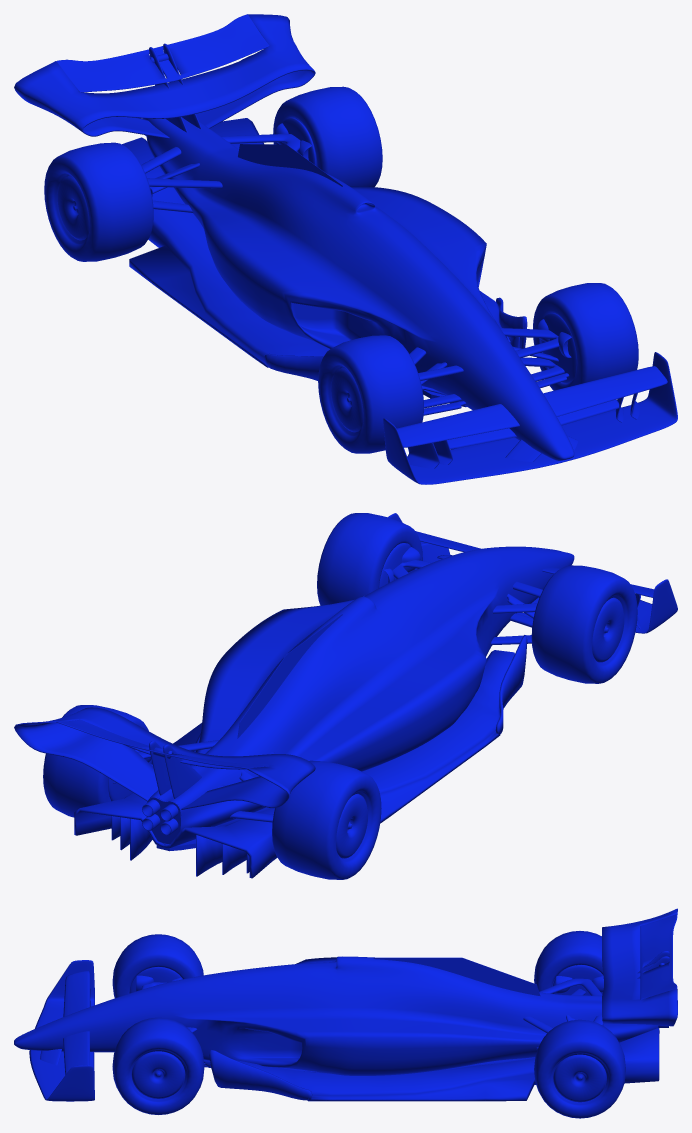
The model's file is Light Car Alpha Model.fbx.
3 renders of one model, top to bottom at view 1: azimuth 30°, elevation 25°; view 2: azimuth 150°, elevation 25°; view 3: azimuth 270°, elevation 25°, orthographic. The views are drawn at different scales.
Parts seen in each view (by area): view 1: Body, Wing, Groundforce Tunnel, Rear Wheel Right, Front Wheel Right, Lower wing, Rear Wheel Left, Front Wheel Left, DRS Wing, Uper Wing, Model.030, Barge Boards (+6 smaller); view 2: Body, Groundforce Tunnel, Wing, Front Wheel Right, Rear Wheel Right, Front Wheel Left, Rear Wheel Left, Defuser Planes, Body Top Fin, SuportStrut, Lower wing, DRS Wing (+4 smaller); view 3: Body, Groundforce Tunnel, Rear Wheel Left, Front Wheel Left, Wing, Lower wing, Front Wheel Right, Rear Wheel Right, DRS Wing, Barge Boards, Body Top Fin, Uper Wing (+3 smaller).
Boxes of the visible parts, x1,y1,x2,y2 form: Body: (146,117,574,460); Wing: (14,14,315,138); Groundforce Tunnel: (122,118,519,395); Rear Wheel Right: (44,142,153,261); Front Wheel Right: (318,335,423,453); Lower wing: (383,352,677,484); Rear Wheel Left: (273,86,382,186); Front Wheel Left: (533,283,638,390); DRS Wing: (56,14,269,92); Uper Wing: (397,366,667,447); Model.030: (141,134,300,188); Barge Boards: (264,297,527,380); Body: (146,546,574,844); Groundforce Tunnel: (74,650,514,878); Wing: (14,707,315,809); Front Wheel Right: (531,565,637,683); Rear Wheel Right: (272,760,381,879); Front Wheel Left: (317,513,422,605); Rear Wheel Left: (43,705,151,817); Defuser Planes: (111,816,249,876); Body Top Fin: (237,613,342,738); SuportStrut: (149,741,201,798); Lower wing: (388,513,677,633); DRS Wing: (56,719,269,768); Body: (14,956,658,1075); Groundforce Tunnel: (204,1028,659,1101); Rear Wheel Left: (534,1019,625,1118); Front Wheel Left: (112,1017,204,1114); Wing: (602,908,677,1026); Lower wing: (29,960,94,1101); Front Wheel Right: (112,934,203,998); Rear Wheel Right: (534,931,603,993); DRS Wing: (640,914,677,999); Barge Boards: (209,1049,312,1100); Body Top Fin: (373,957,540,996); Uper Wing: (63,971,89,1074).
Bounding box in the file's own units: 247 × 118 × 617.
